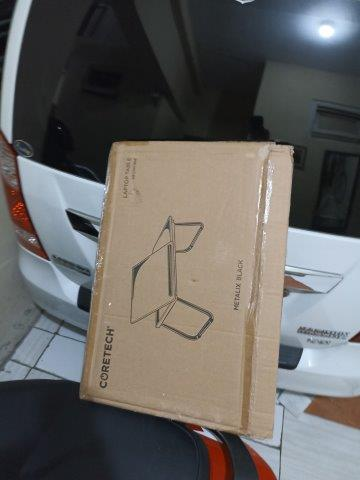kardus: (82, 144, 291, 438)
